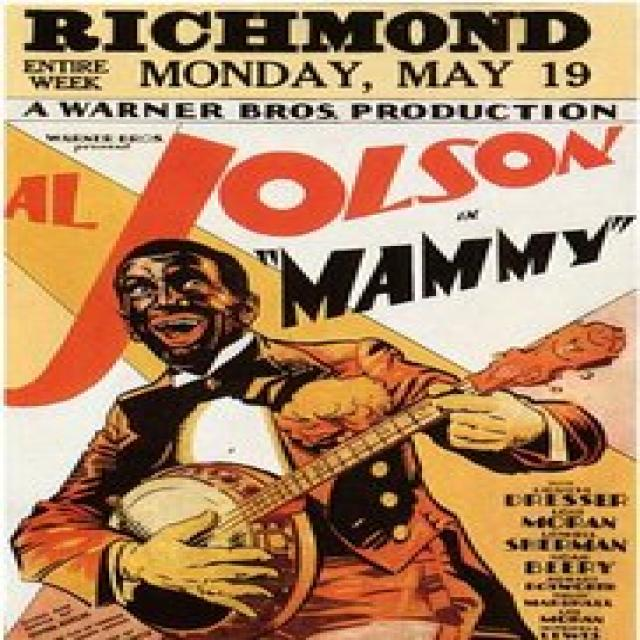movie-judul: (249, 230, 631, 320)
picture: (22, 246, 578, 640)
